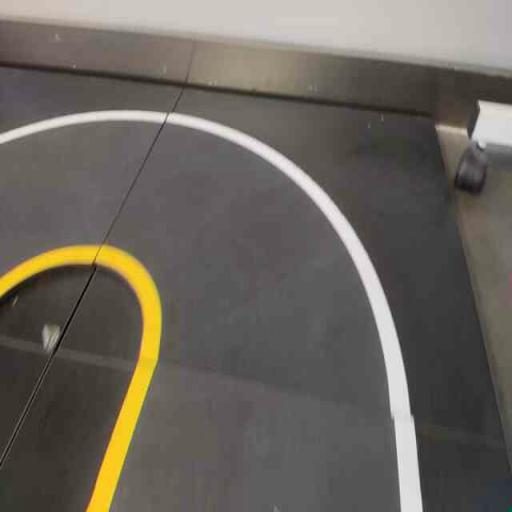left: (57, 77, 433, 427)
